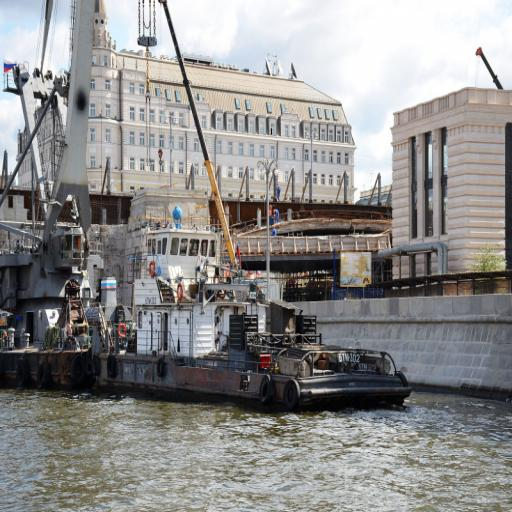tugboat: (90, 205, 417, 419)
